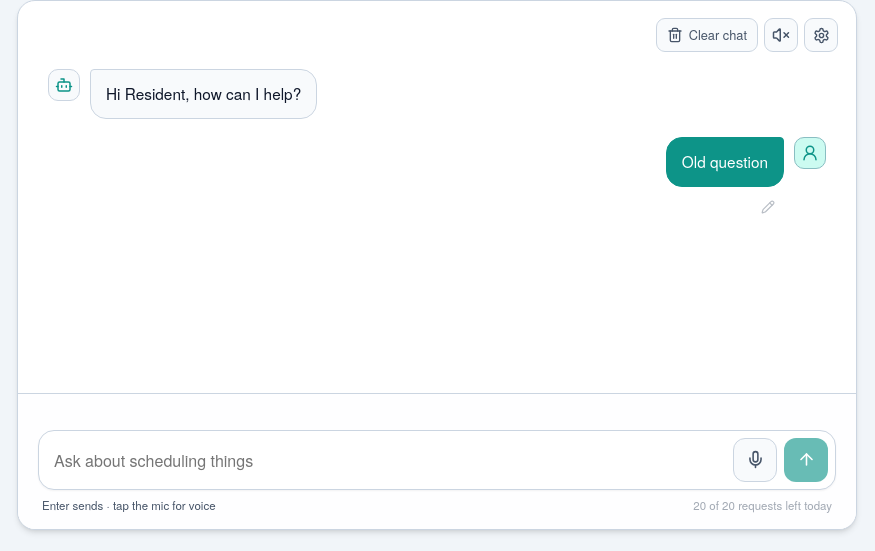
Test: quiet support handoff in chat › ignores an older presence response arriving after chat is cleared
Click the button with class "chat-clear-button" at (707, 35), box x1=656 y1=18 x2=758 y2=52
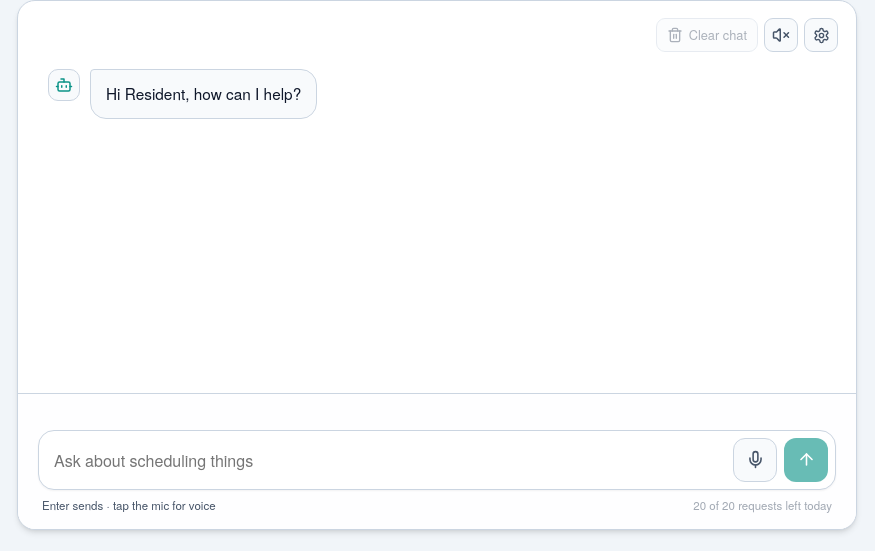
Expected: the text "Hi Resident, how can I help?" is shown, x1=106 y1=82 x2=301 y2=106
Now the text "Old question" is gone
